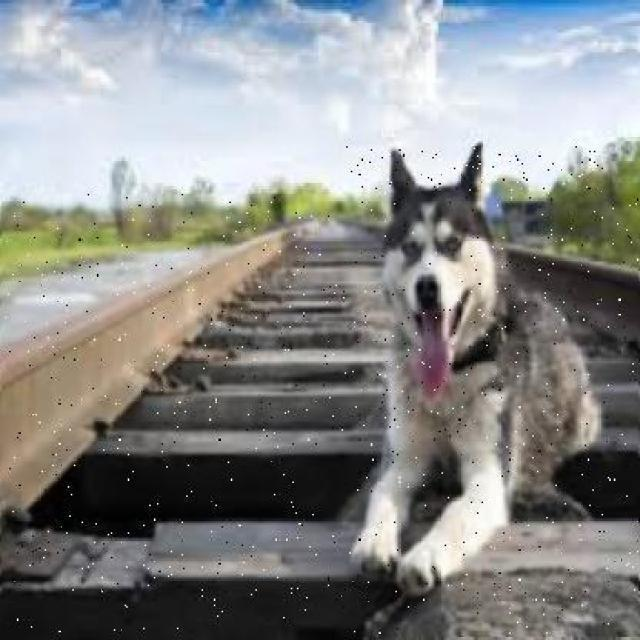rail: (4, 196, 639, 635)
